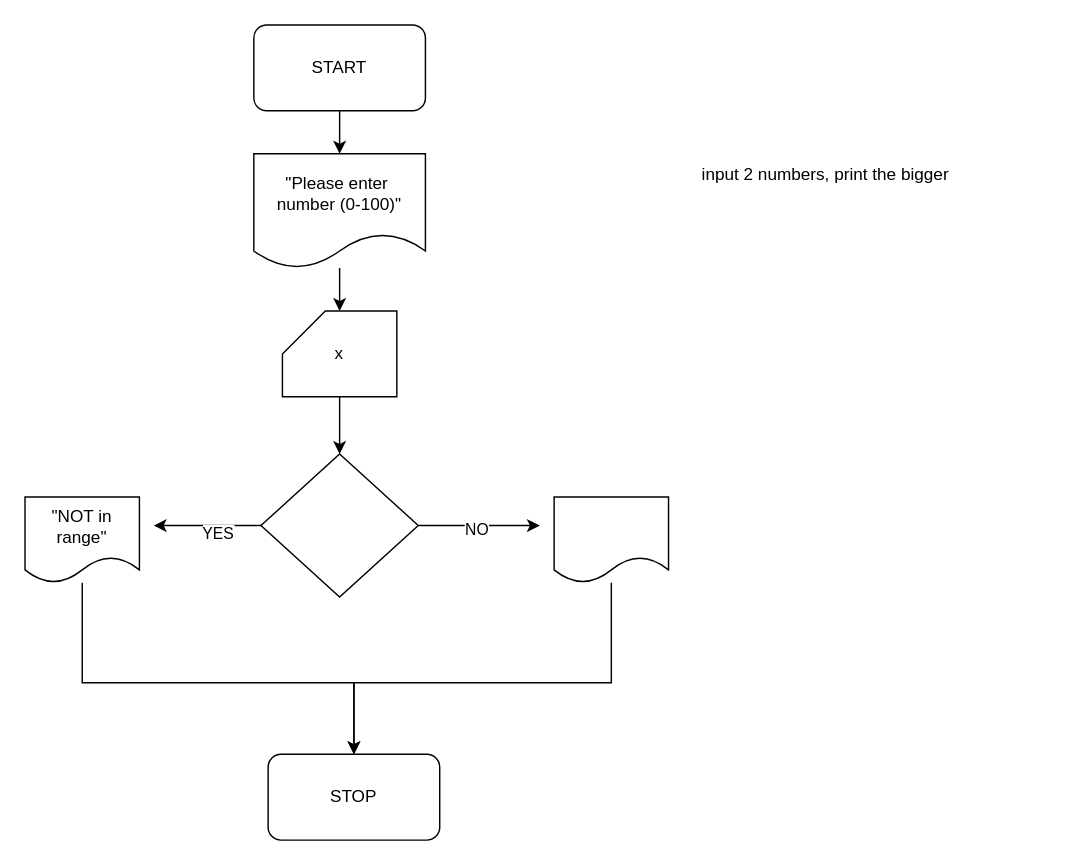
This 1087x865 diagram has some shape labels left out. The centre of each missing label's shape, as x and y in pixels:
"in range": point 611,539
X < 0 || X > 100: point 339,525
